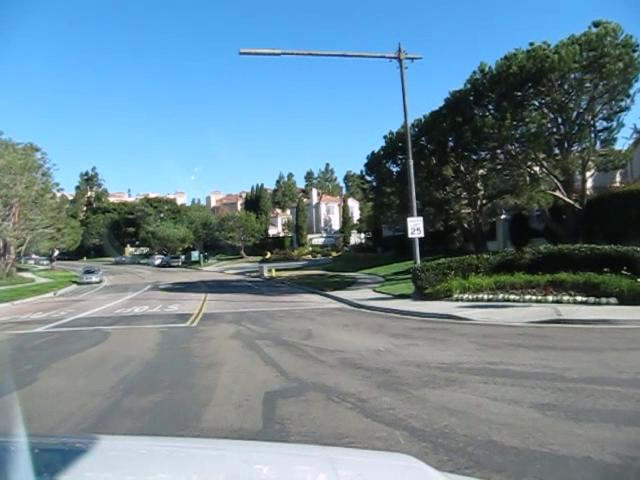speedLimit25: (406, 215, 424, 238)
